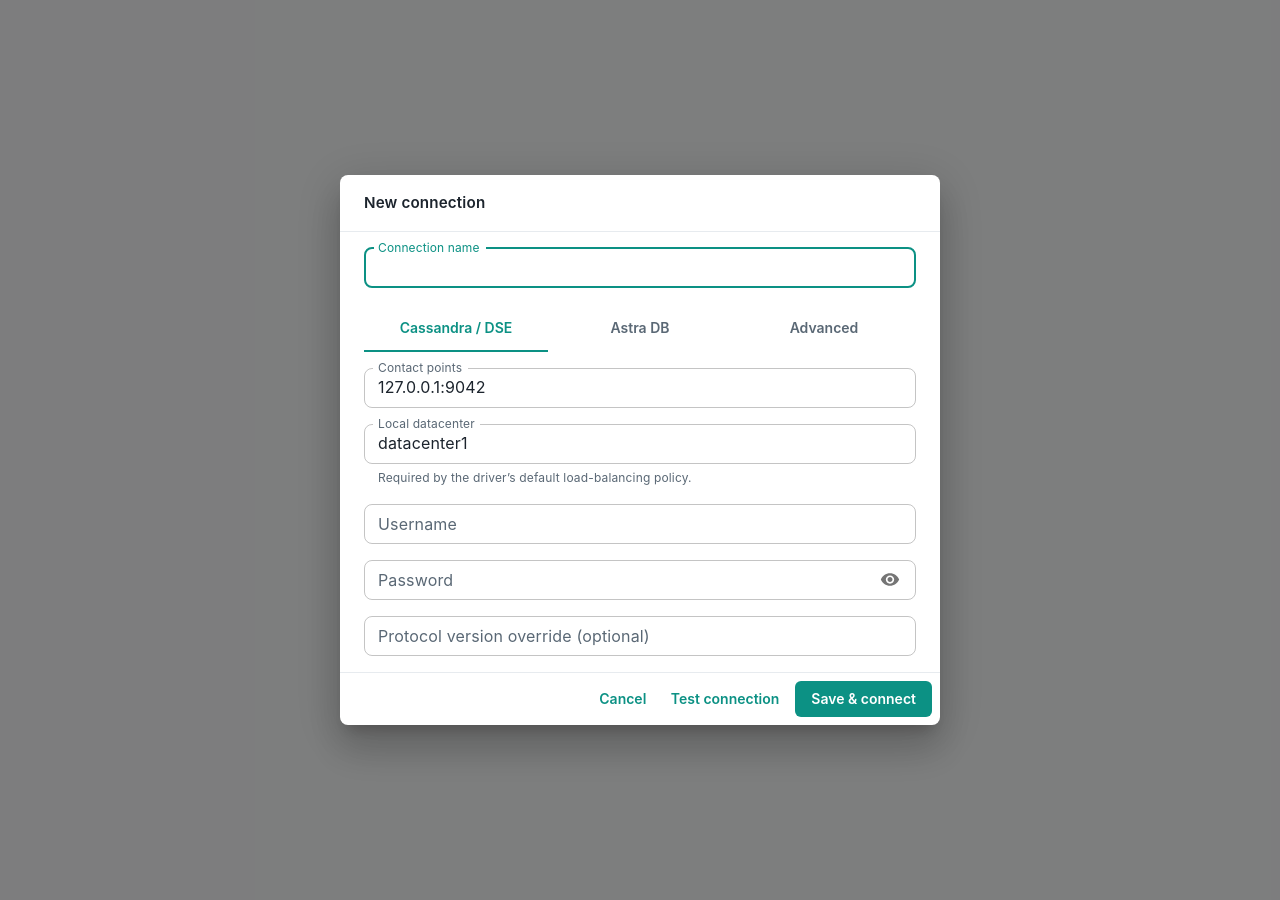
it: ConnectionDialog › blocks saving until the form validates and reports why
This screenshot has width=1280, height=900.
Click the button with test id "connection-save" at (864, 699), box [795, 681, 932, 717]
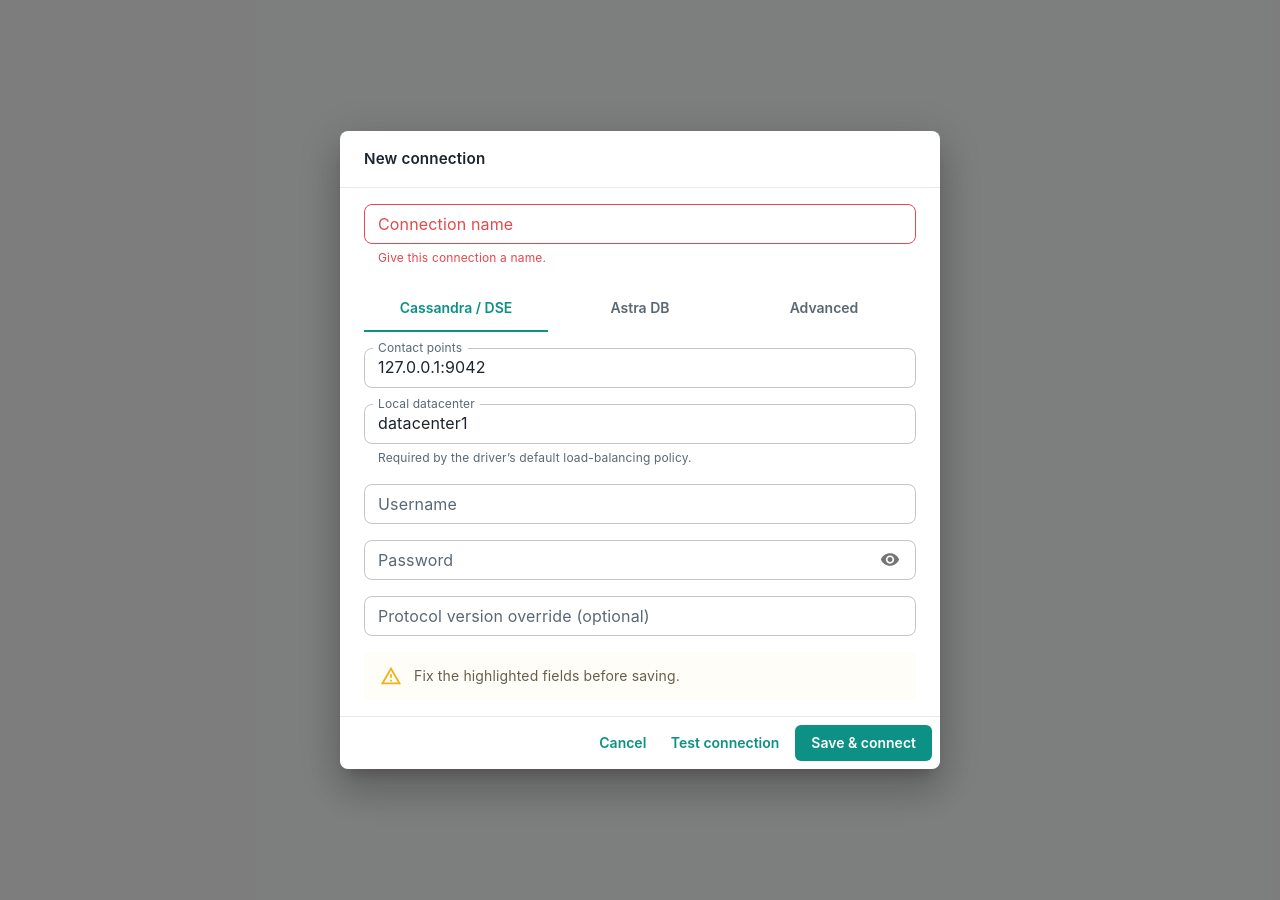
Now the text "Fix the highlighted fields before saving." is shown, box [414, 667, 680, 684]
Now the text "Give this connection a name." is shown, box [378, 250, 546, 265]
